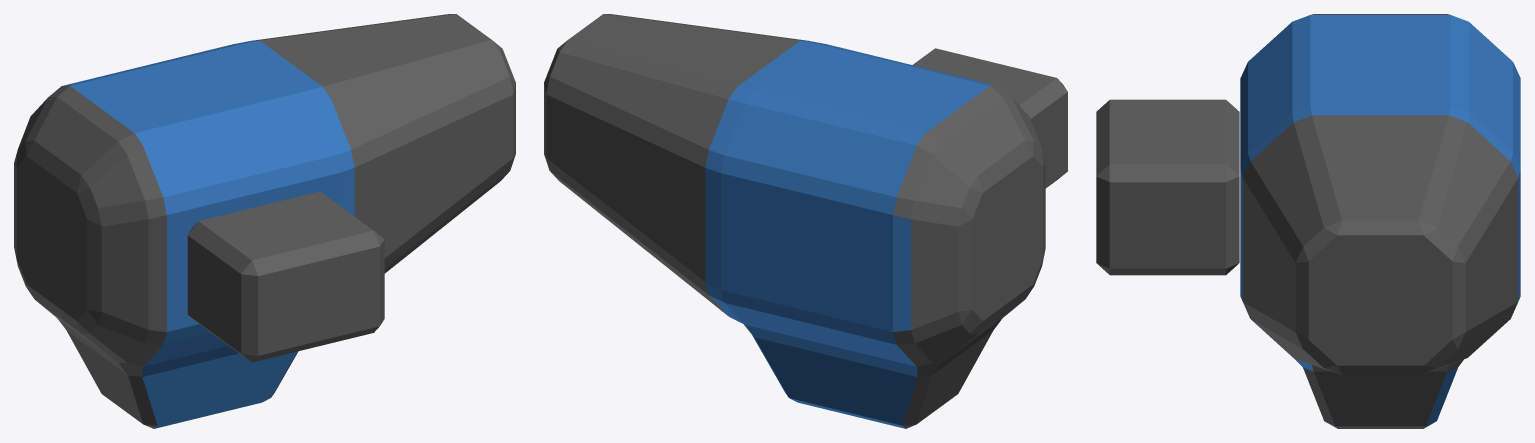
File: Turret_01.fbx
The picture shows the model from 3 angles, left to right: view 1: azimuth 30°, elevation 25°; view 2: azimuth 150°, elevation 25°; view 3: azimuth 270°, elevation 25°; orthographic projection. The views are drawn at different scales.
Visible parts, largest first — view 1: Turret_01; view 2: Turret_01; view 3: Turret_01.
Boxes of the visible parts, box(x1,y1,x2,y2) form: Turret_01: box(14, 14, 515, 428); Turret_01: box(544, 14, 1067, 428); Turret_01: box(1096, 14, 1520, 428).
Bounding box in the file's own units: 1.73 × 1.2 × 1.36.
